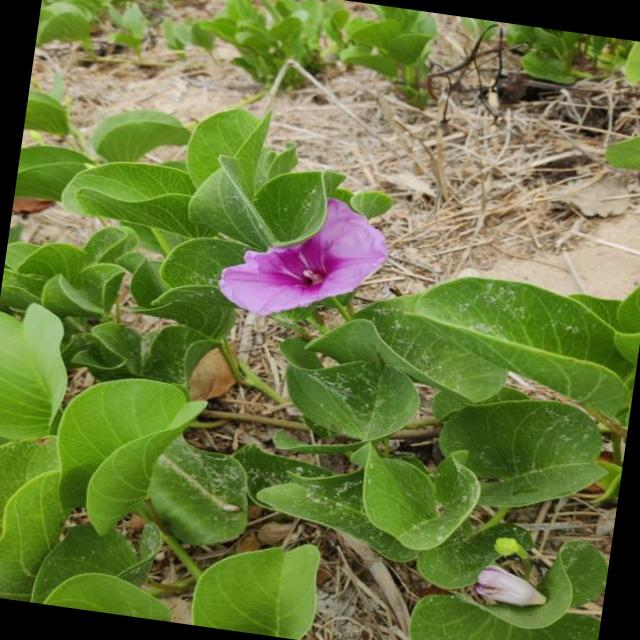ipomoea: (208, 180, 398, 336)
